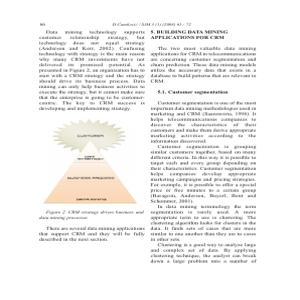diagram: (32, 118, 143, 208)
text: (150, 28, 261, 267), (33, 29, 148, 112), (32, 224, 147, 246)
